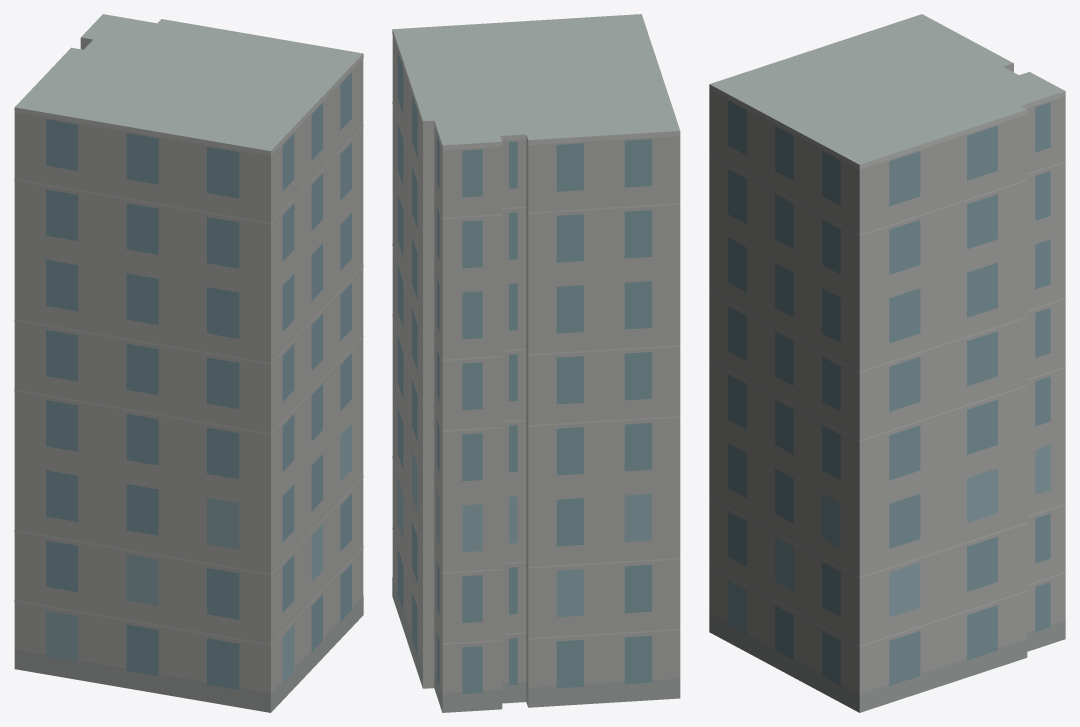
The model's file is survey-upis-32880358.glb.
3 renders of one model, left to right at view 1: azimuth 30°, elevation 25°; view 2: azimuth 150°, elevation 25°; view 3: azimuth 270°, elevation 25°, orthographic. The views are drawn at different scales.
Visible parts, largest first — view 1: survey-upis-32880358.tmp; view 2: survey-upis-32880358.tmp; view 3: survey-upis-32880358.tmp.
Boxes of the visible parts, x1=… form: survey-upis-32880358.tmp: x1=14, y1=14, x2=363, y2=712; survey-upis-32880358.tmp: x1=392, y1=14, x2=680, y2=712; survey-upis-32880358.tmp: x1=709, y1=14, x2=1065, y2=712.
Bounding box in the file's own units: 16.25 × 27.5 × 16.22.
